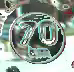Speed limit: (2, 4, 68, 66)
